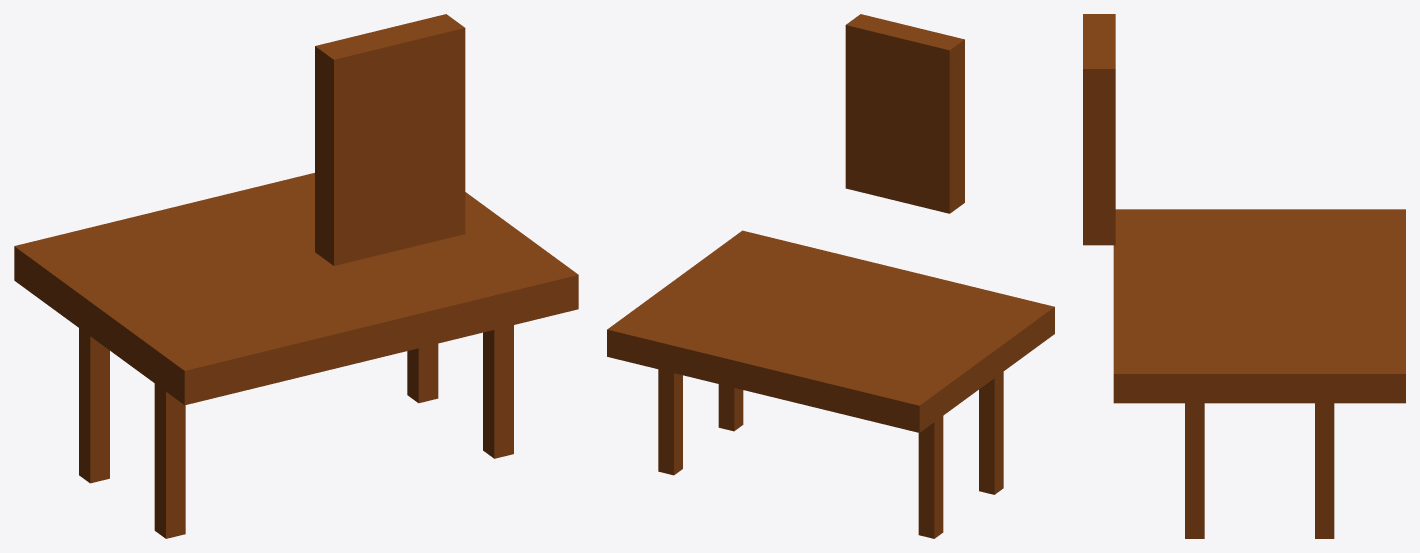
File: chair.glb
3 views of the same model, side by side, from view 1: azimuth 30°, elevation 25°; view 2: azimuth 150°, elevation 25°; view 3: azimuth 270°, elevation 25° (orthographic). The views are drawn at different scales.
Parts seen in each view (by area): view 1: seat, backrest, leg3, leg1, leg4, leg2; view 2: seat, backrest, leg1, leg3, leg2, leg4; view 3: seat, backrest, leg2, leg4.
Part boxes in pixels (x1,y1,x2,y2): seat: (14,173,578,405); backrest: (315,14,465,265); leg3: (154,383,185,538); leg1: (79,328,109,483); leg4: (483,325,513,458); leg2: (407,343,438,403); seat: (607,230,1054,432); backrest: (845,14,964,213); leg1: (918,416,943,538); leg3: (979,372,1003,494); leg2: (658,369,682,475); leg4: (718,384,743,431); seat: (1113,209,1405,403); backrest: (1083,14,1115,245); leg2: (1315,403,1334,538); leg4: (1185,403,1204,538).
Bounding box in the file's own units: 0.6 × 0.722 × 0.497.
